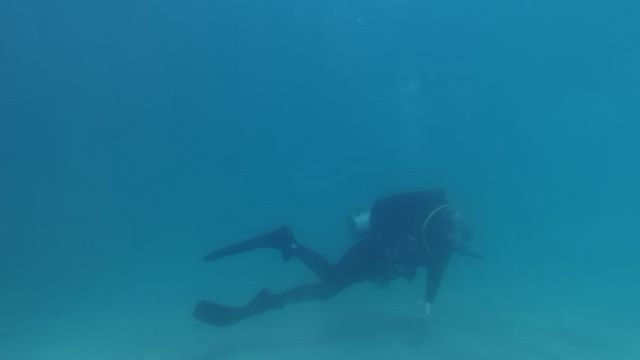Diver: (174, 188, 497, 331), (196, 220, 308, 270), (191, 291, 280, 330), (438, 207, 486, 268), (413, 292, 449, 331)
